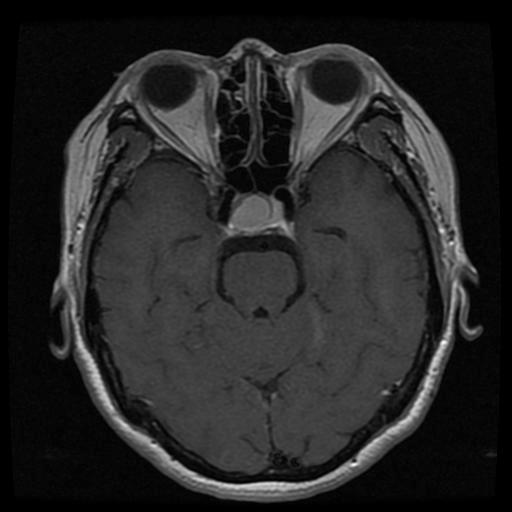Tumour-Pituitary: (215, 187, 299, 244)
